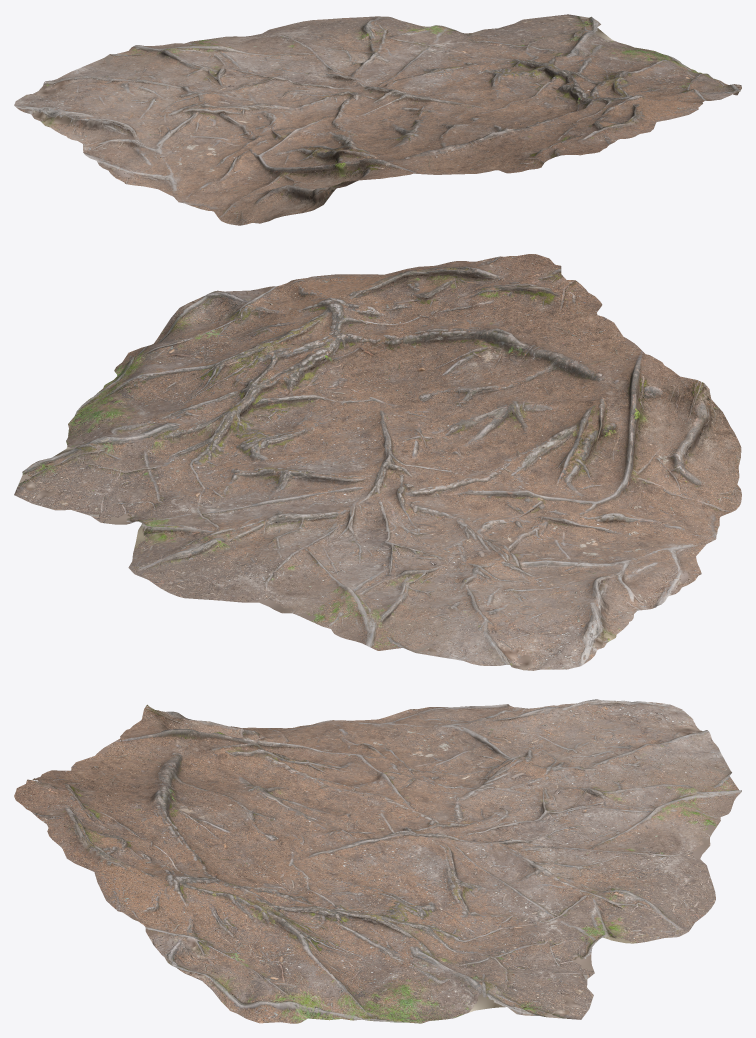
The model's file is SM_RootsGround_01_01.fbx.
3 renders of one model, top to bottom at view 1: azimuth 30°, elevation 25°; view 2: azimuth 150°, elevation 25°; view 3: azimuth 270°, elevation 25°, orthographic. The views are drawn at different scales.
Visible parts, largest first — view 1: sm_RootsGround_01_01_LOD0; view 2: sm_RootsGround_01_01_LOD0; view 3: sm_RootsGround_01_01_LOD0.
Boxes of the visible parts, left/top/right/bottom form: sm_RootsGround_01_01_LOD0: left=14, top=14, right=741, bottom=225; sm_RootsGround_01_01_LOD0: left=14, top=254, right=741, bottom=670; sm_RootsGround_01_01_LOD0: left=14, top=699, right=741, bottom=1023.
Size of the model in its own units: 493 by 525 by 76.25.
